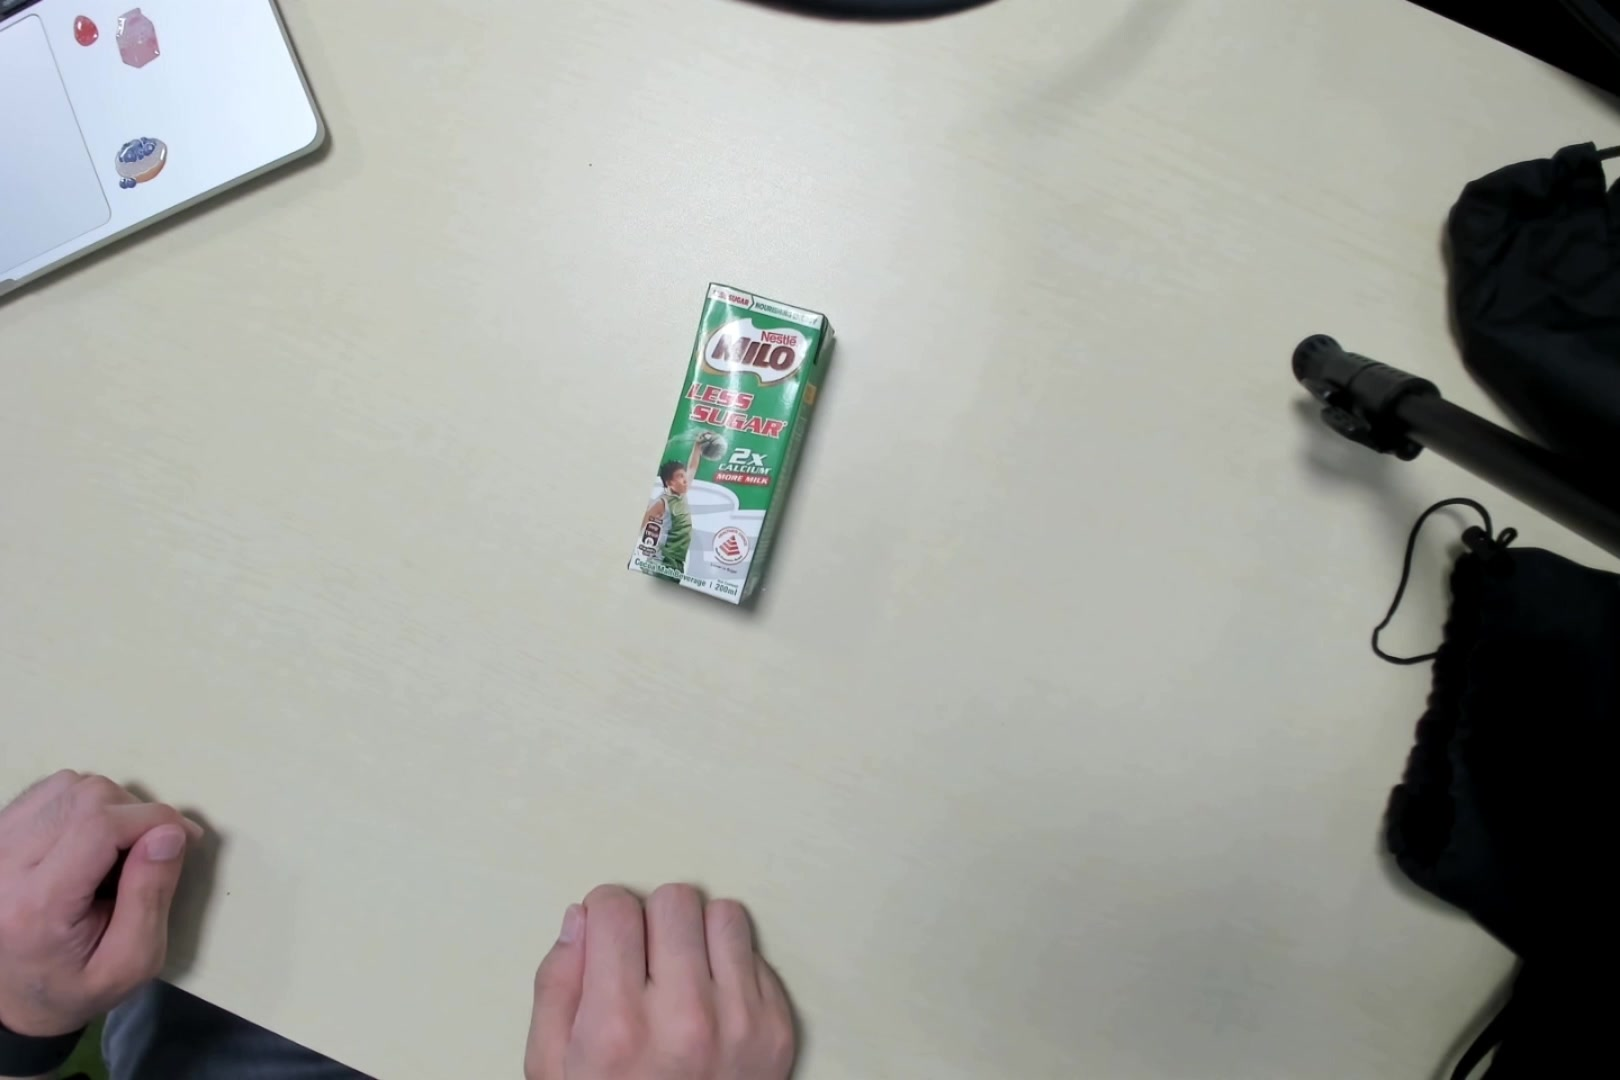SoftDrinksOtherReadyToDrink_100-199g_NonHalal_NonHealthy: (627, 270, 834, 622)
